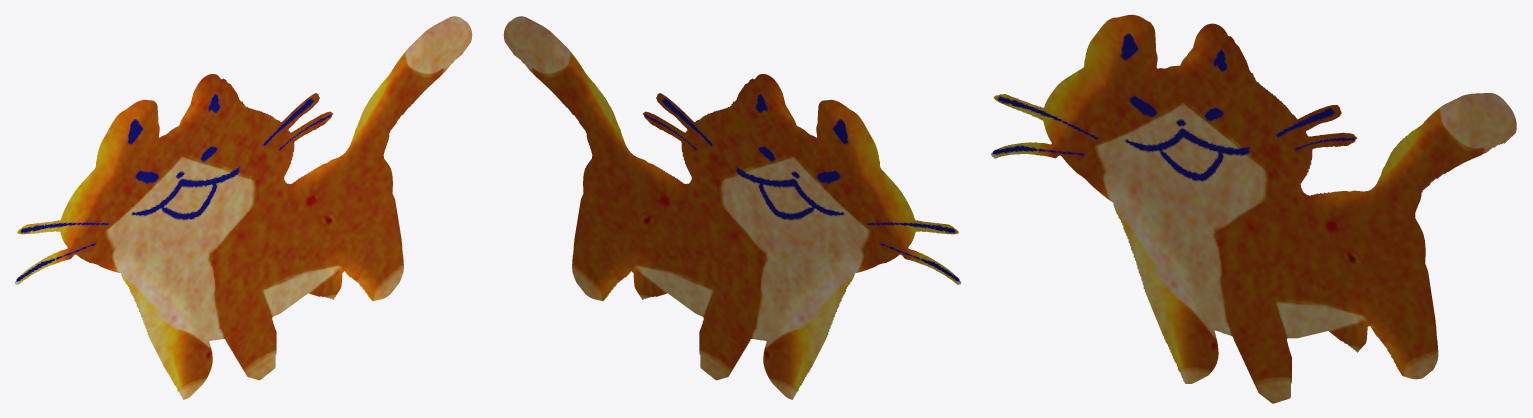
Rendered from animal_05.fbx.
3 views of the same model, side by side, from view 1: azimuth 30°, elevation 25°; view 2: azimuth 150°, elevation 25°; view 3: azimuth 330°, elevation 25° (orthographic). The views are drawn at different scales.
Parts seen in each view (by area): view 1: animal_05; view 2: animal_05; view 3: animal_05.
Boxes of the visible parts, x1,y1,x2,y2 form: animal_05: [14, 16, 472, 399]; animal_05: [503, 16, 961, 399]; animal_05: [991, 14, 1516, 403].
Bounding box in the file's own units: 81.43 × 54.95 × 6.55e-06.
1 material, 1 textured.
